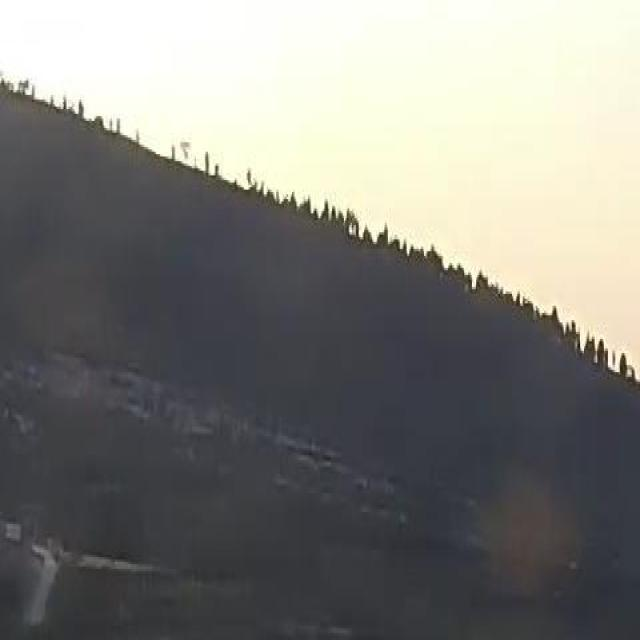other: (331, 140, 616, 374)
